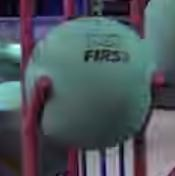algae: (22, 17, 149, 149), (0, 81, 69, 172), (144, 0, 175, 70), (0, 43, 21, 80)
